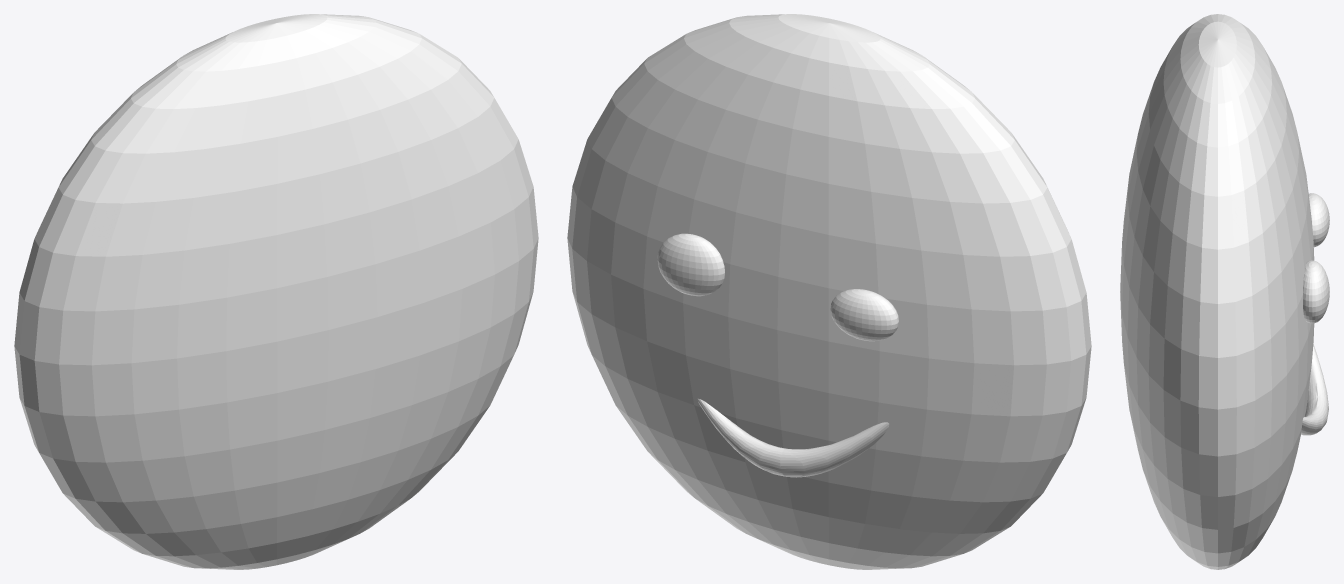
Rendered from happy.obj.
3 renders of one model, left to right at view 1: azimuth 30°, elevation 25°; view 2: azimuth 150°, elevation 25°; view 3: azimuth 270°, elevation 25°, orthographic. The views are drawn at different scales.
Visible parts, largest first — view 1: 球; view 2: 球, 球.003, 球.001, 球.002; view 3: 球, 球.003, 球.001, 球.002.
Boxes of the visible parts, x1=… form: 球: x1=14, y1=14, x2=538, y2=569; 球: x1=567, y1=14, x2=1091, y2=569; 球.003: x1=697, y1=398, x2=889, y2=477; 球.001: x1=657, y1=233, x2=724, y2=296; 球.002: x1=830, y1=289, x2=898, y2=341; 球: x1=1120, y1=14, x2=1314, y2=569; 球.003: x1=1301, y1=344, x2=1328, y2=435; 球.001: x1=1303, y1=260, x2=1329, y2=323; 球.002: x1=1308, y1=193, x2=1329, y2=247.
Size of the model in its own units: 2 by 2 by 0.7536.
